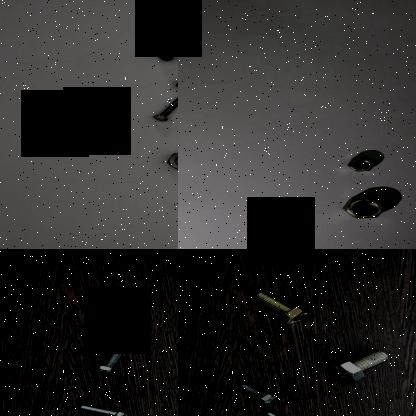Bolts: (325, 344, 391, 387), (250, 290, 314, 328), (237, 380, 281, 408), (90, 350, 130, 376), (147, 94, 178, 123), (76, 402, 128, 416), (155, 39, 178, 63), (261, 411, 309, 416)
NUTS: (340, 196, 388, 219), (344, 156, 376, 172), (160, 148, 178, 173), (170, 76, 178, 92)
